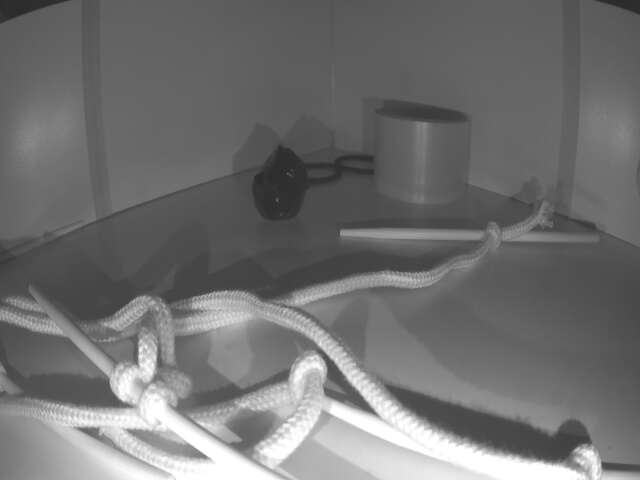Dead: (258, 147, 303, 219)
